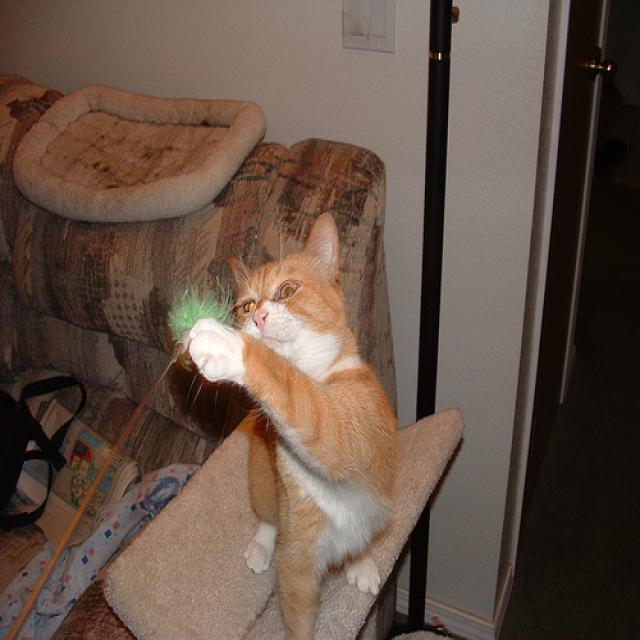cat: (189, 213, 399, 639)
sofa: (1, 73, 399, 639)
